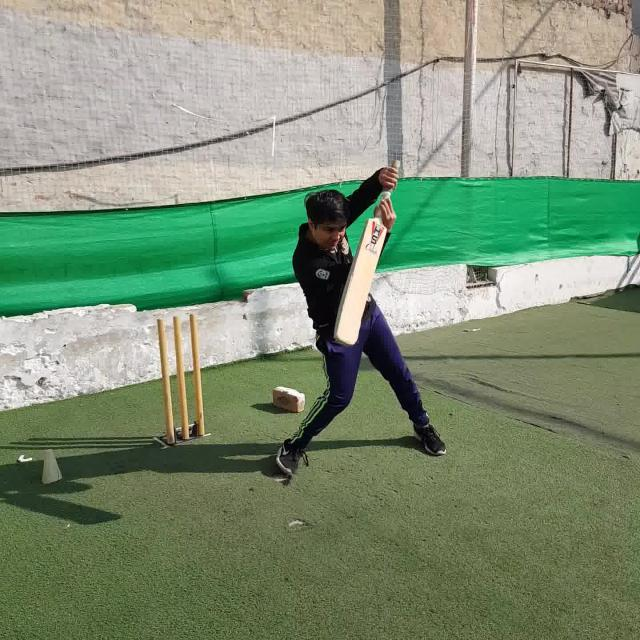bat: (336, 160, 400, 347)
